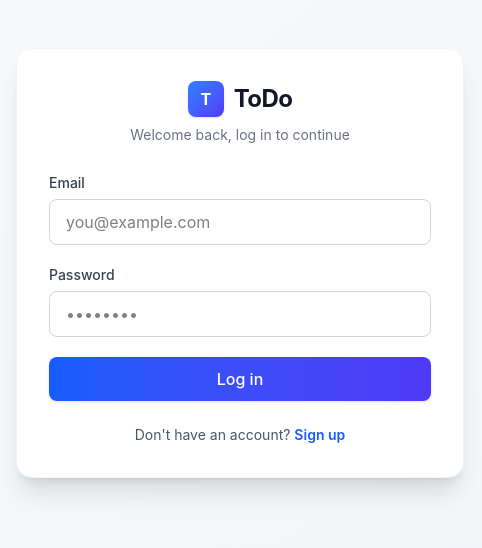
Scenario: LoginPage › shows error message on failed login
The width and height of the screenshot is (482, 548).
Type "test@example.com" into the field labelled "Email" at [240, 222], box [49,199,431,245]
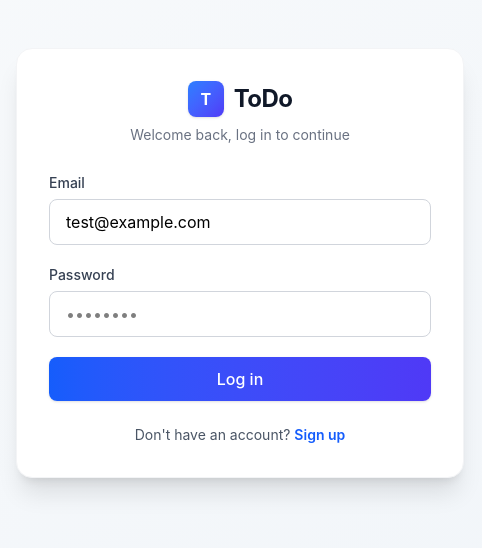
Type "wrong" into the password field labelled "Password" at [240, 314], box [49,291,431,337]
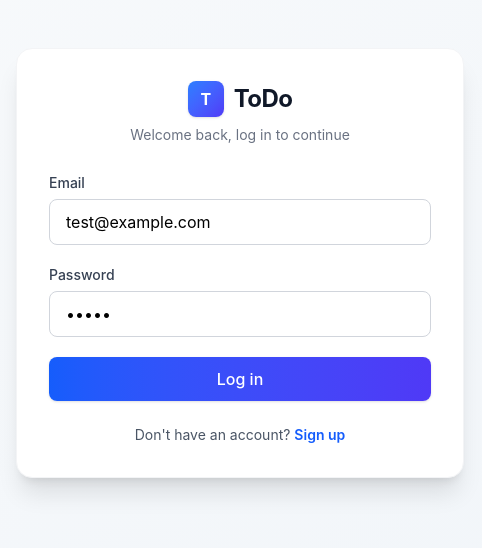
Click the button "Log in" at [240, 379], box [49,357,431,401]
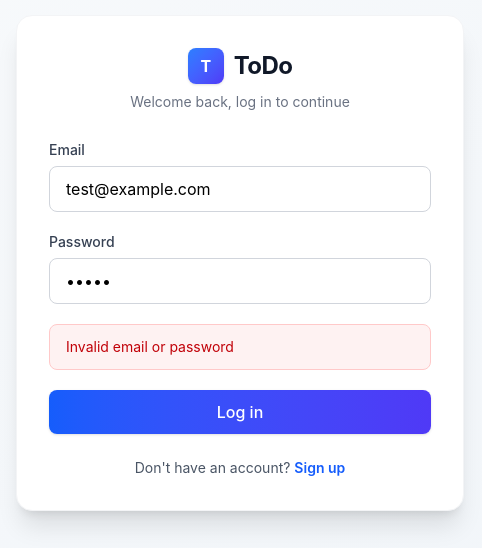
Expected: the text "Invalid email or password" is shown, [49,324,431,370]
